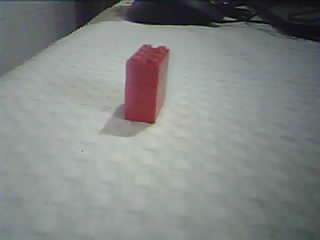lego: (123, 41, 171, 125)
